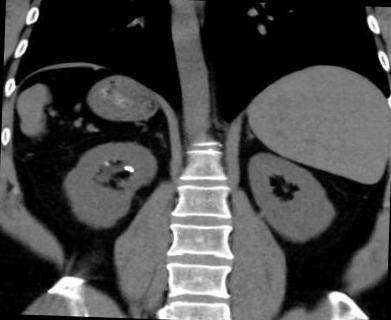Tas_Var: (121, 164, 134, 173), (104, 160, 110, 167)
